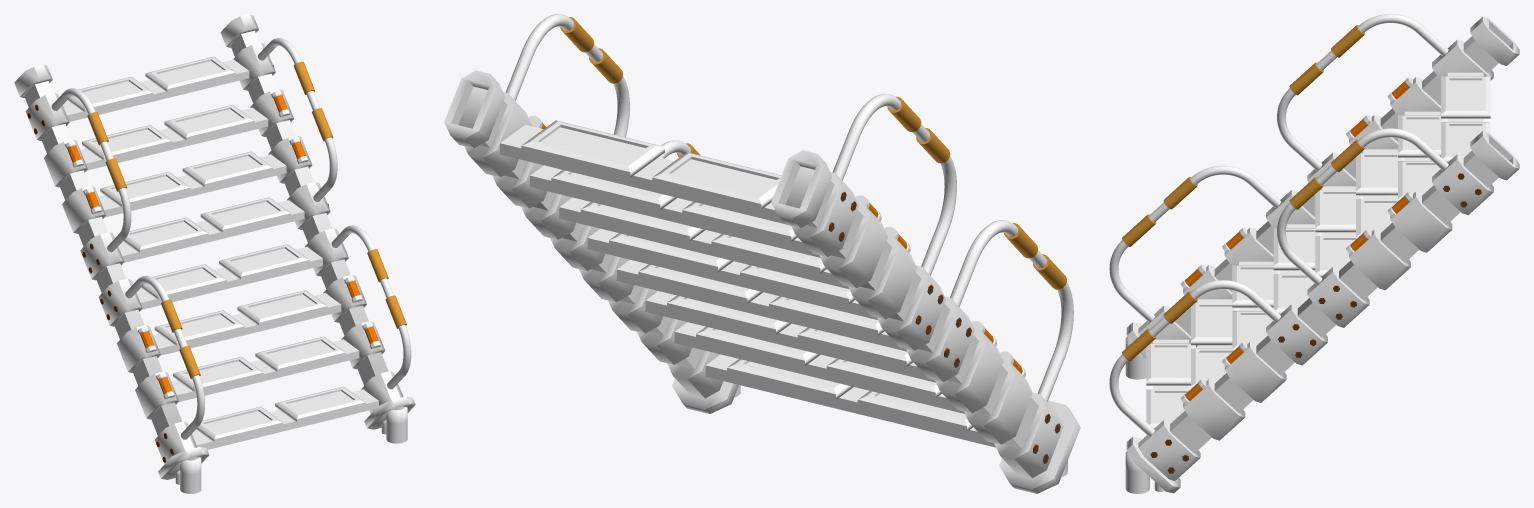
The model's file is Stair.fbx.
3 renders of one model, left to right at view 1: azimuth 30°, elevation 25°; view 2: azimuth 150°, elevation 25°; view 3: azimuth 270°, elevation 25°, orthographic. The views are drawn at different scales.
Parts seen in each view (by area): view 1: Stairs, Lumière; view 2: Stairs, Lumière, Bold; view 3: Stairs, Lumière, Bold.
Boxes of the visible parts, x1=… form: Stairs: x1=14, y1=14, x2=415, y2=493; Lumière: x1=65, y1=90, x2=381, y2=398; Stairs: x1=444, y1=14, x2=1080, y2=493; Lumière: x1=528, y1=115, x2=1026, y2=377; Bold: x1=828, y1=191, x2=1060, y2=463; Stairs: x1=1109, y1=14, x2=1519, y2=493; Lumière: x1=1180, y1=77, x2=1412, y2=404; Bold: x1=1150, y1=173, x2=1481, y2=473.
Bounding box in the file's own units: 3504 × 4413 × 4545.
